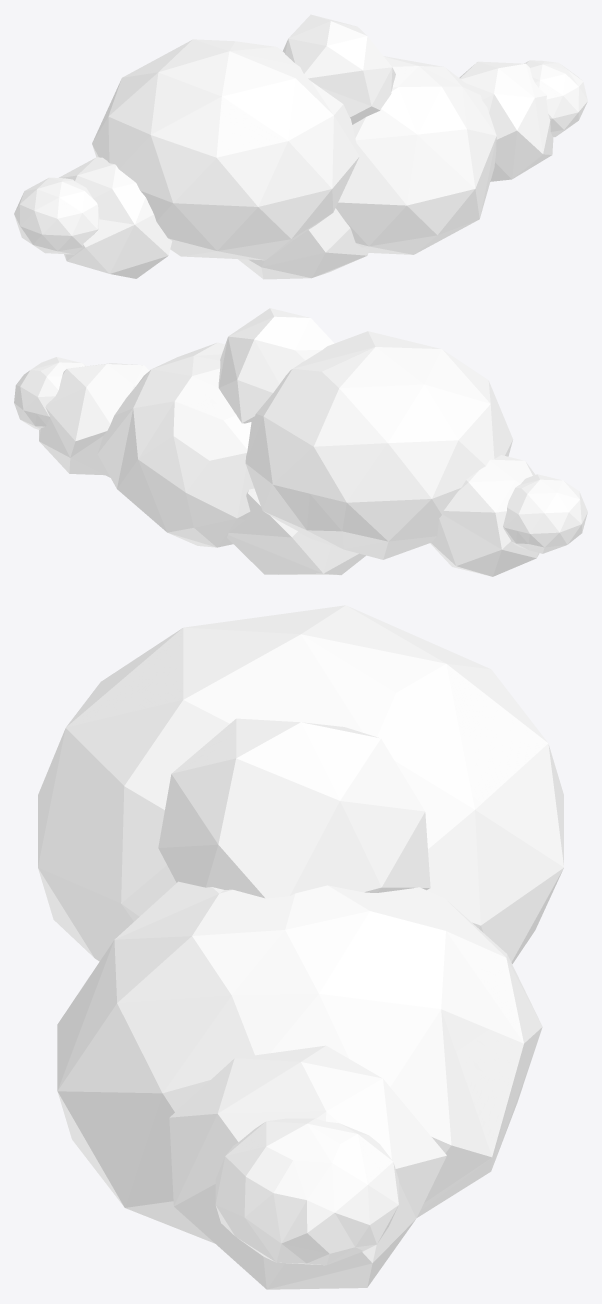
File: cloud-big.glb
The picture shows the model from 3 angles, top to bottom: view 1: azimuth 30°, elevation 25°; view 2: azimuth 150°, elevation 25°; view 3: azimuth 270°, elevation 25°; orthographic projection. The views are drawn at different scales.
Visible parts, largest first — view 1: cloud-big; view 2: cloud-big; view 3: cloud-big.
Boxes of the visible parts, <box> form: cloud-big: <box>14,14,587,279</box>; cloud-big: <box>14,308,587,576</box>; cloud-big: <box>38,605,563,1289</box>.
Size of the model in its own units: 8.85 by 3.66 by 3.58.
Materials: 1 (1 with a texture image).
